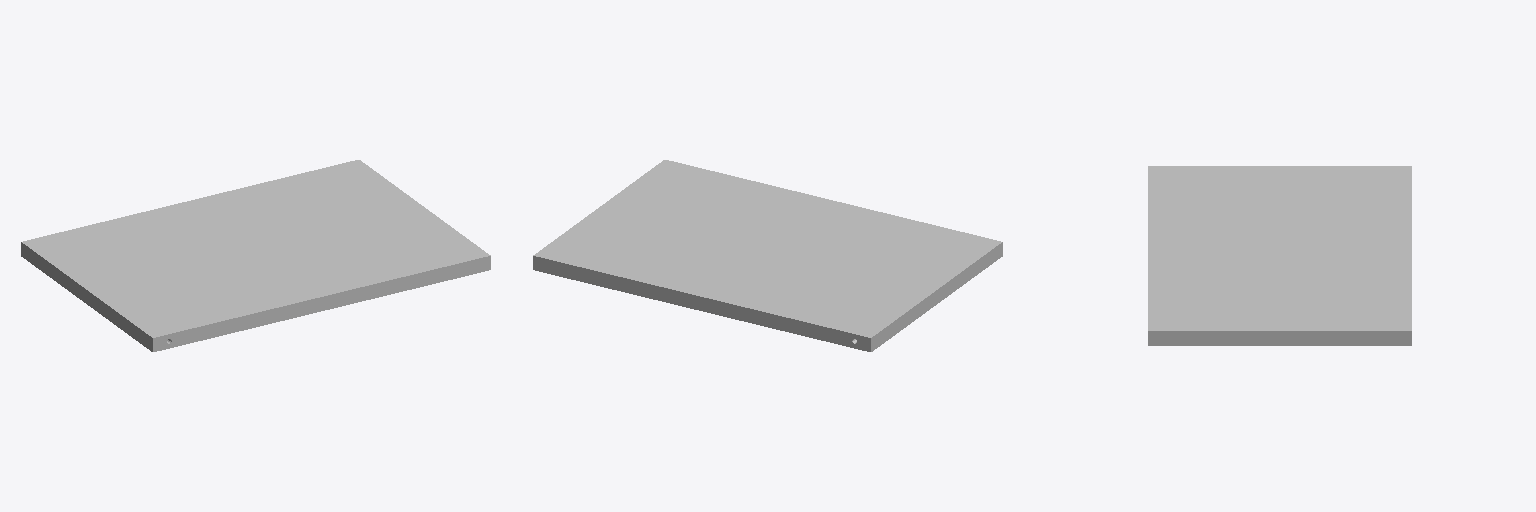
The picture shows the model from 3 angles: view 1: azimuth 30°, elevation 25°; view 2: azimuth 150°, elevation 25°; view 3: azimuth 270°, elevation 25°; orthographic projection.
Visible parts, largest first — view 1: obj_[number redacted]; view 2: obj_[number redacted]; view 3: obj_[number redacted].
Boxes of the visible parts, <box> form: obj_[number redacted]: <box>21,160,490,351</box>; obj_[number redacted]: <box>533,160,1002,351</box>; obj_[number redacted]: <box>1148,166,1411,345</box>.
Size of the model in its own units: 0.367 by 0.015 by 0.2475.